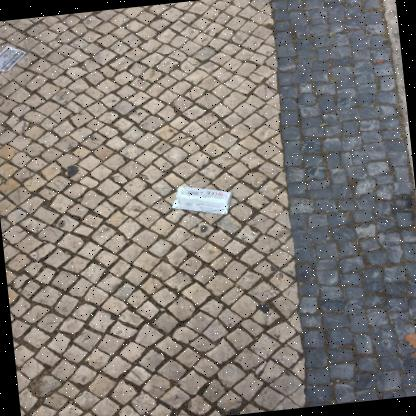Normal paper: (0, 45, 26, 71)
Other plastic: (171, 186, 233, 214)
